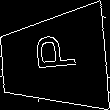P_W: (29, 39, 79, 80)
